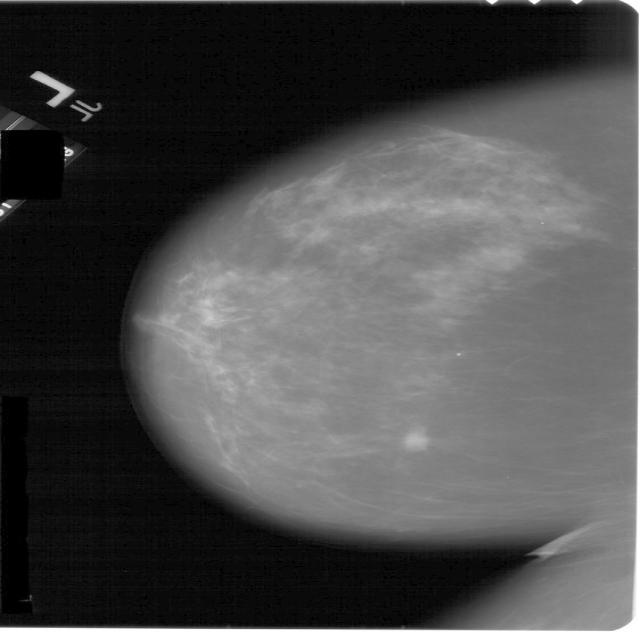tumour: (401, 430, 427, 452)
